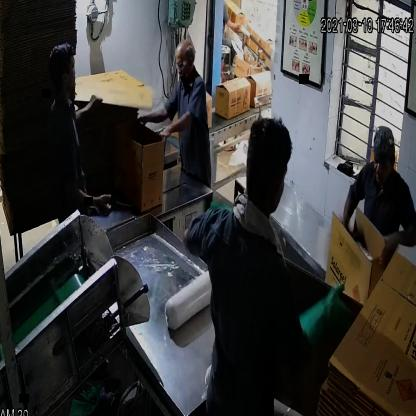glove: (297, 271, 352, 359)
no_glove: (60, 172, 116, 218), (378, 211, 416, 265), (154, 110, 197, 150), (68, 88, 104, 128)
